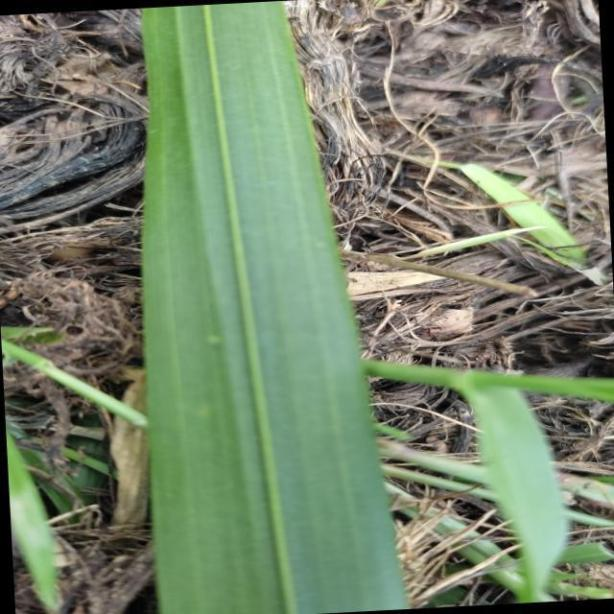Healthy: (138, 3, 416, 614)
